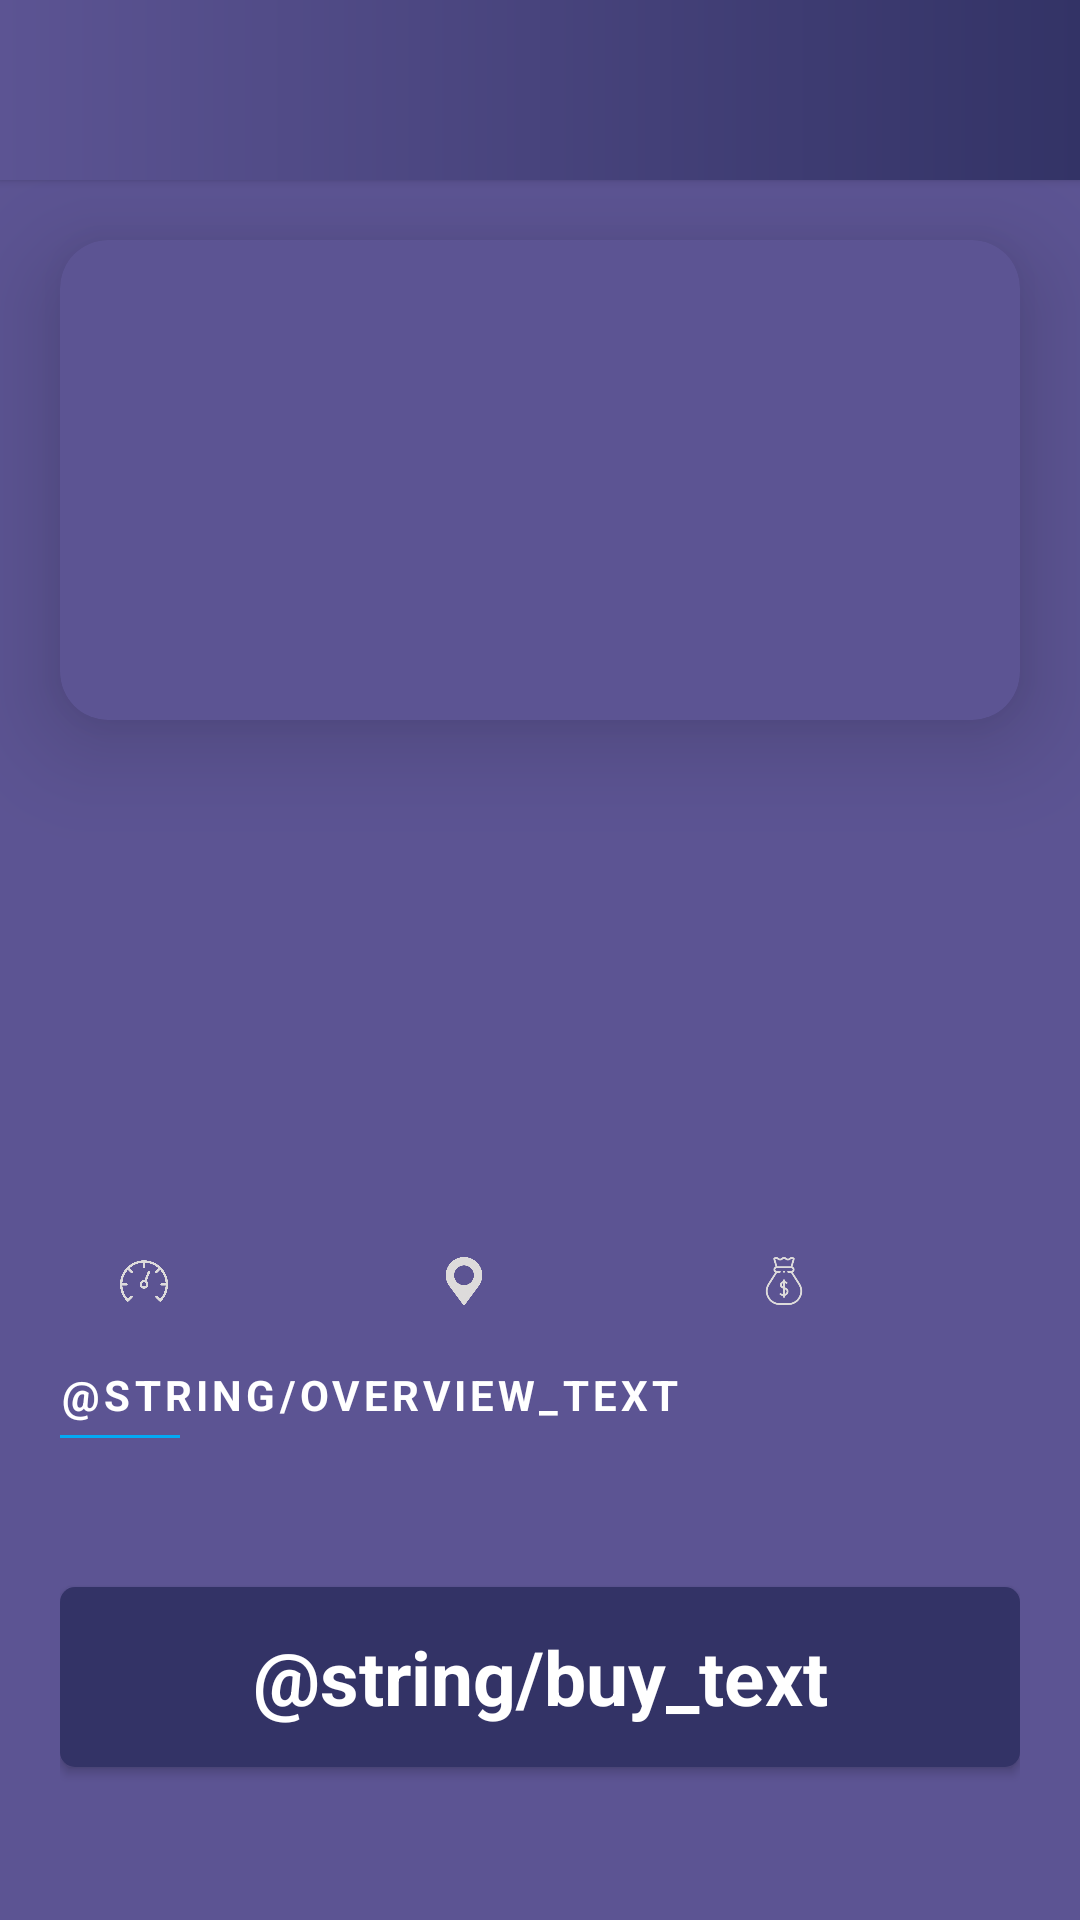

Screen size 1080w x 1920h. Icon name, then its box in pixels as (x1=x1, y1=y1, x2=x2, y2=y2):
location: (x1=446, y1=1257, x2=482, y2=1305)
price: (x1=766, y1=1257, x2=802, y2=1305)
speed: (x1=120, y1=1260, x2=168, y2=1302)
